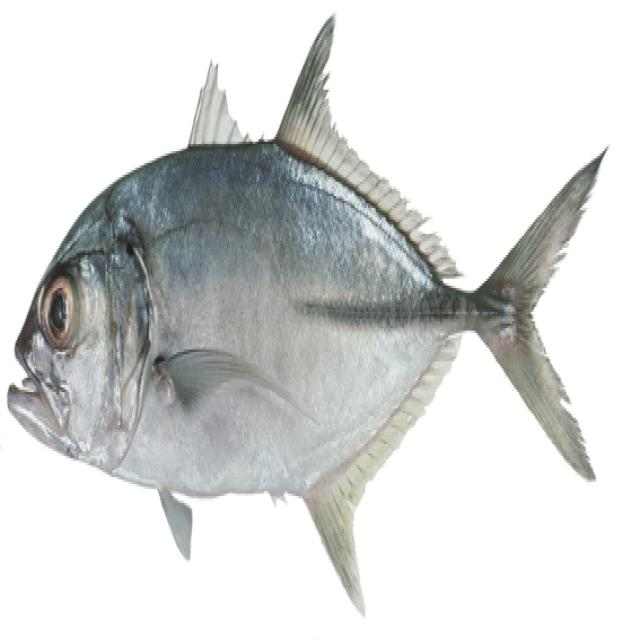ikan: (10, 14, 603, 620)
